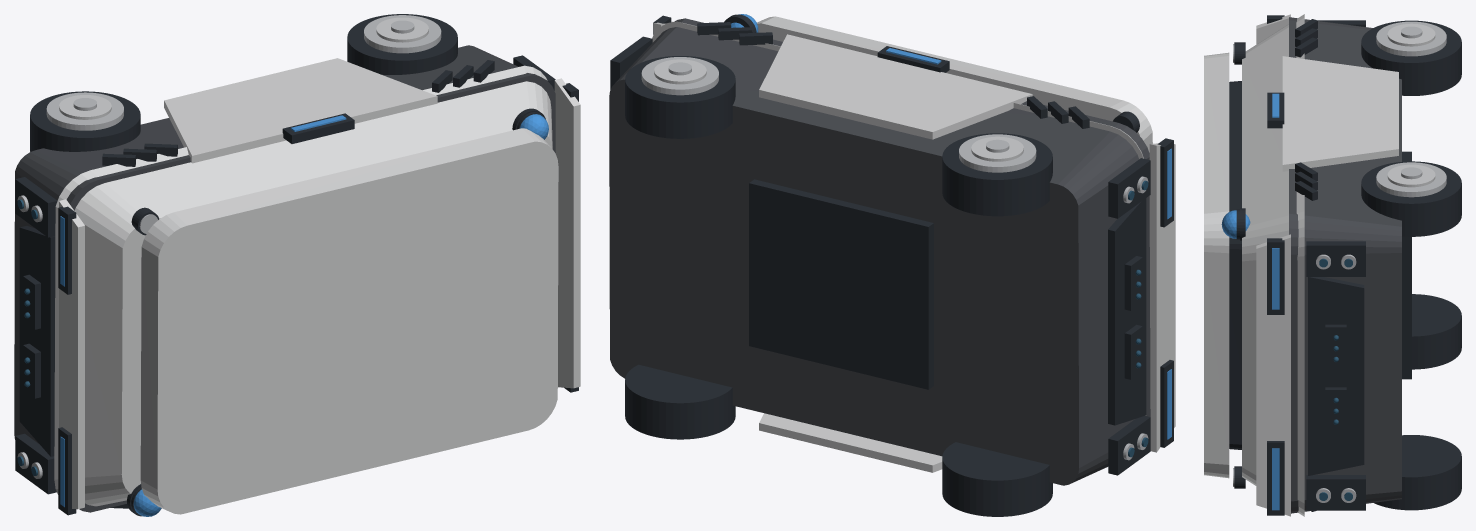
The model's file is umr_concept_v2.glb.
The picture shows the model from 3 angles, left to right: view 1: azimuth 30°, elevation 25°; view 2: azimuth 150°, elevation 25°; view 3: azimuth 270°, elevation 25°; orthographic projection. The views are drawn at different scales.
Parts seen in each view (by area): view 1: top_plate, upper, side_panel_left, lower, front_fascia, rear_recess, rear_fascia, wheel_3, wheel_1, pod_-0.416_0.205, hub_1, hub_3 (+8 smaller); view 2: lower, undertray, side_panel_left, wheel_4, wheel_2, rear_recess, top_plate, rear_fascia, wheel_3, wheel_1, side_panel_right, pod_-0.416_0.205 (+12 smaller); view 3: lower, upper, side_panel_left, top_plate, front_recess, front_fascia, riser, wheel_2, wheel_1, wheel_3, wheel_4, pod_0.416_0.205 (+15 smaller).
Boxes of the visible parts, x1=… form: top_plate: x1=140, y1=128, x2=558, y2=514; upper: x1=54, y1=65, x2=552, y2=506; side_panel_left: x1=164, y1=58, x2=437, y2=163; lower: x1=14, y1=45, x2=555, y2=512; front_fascia: x1=554, y1=78, x2=580, y2=388; rear_recess: x1=19, y1=226, x2=55, y2=456; rear_fascia: x1=59, y1=199, x2=84, y2=509; wheel_3: x1=30, y1=91, x2=140, y2=151; wheel_1: x1=347, y1=14, x2=457, y2=74; pod_-0.416_0.205: x1=15, y1=177, x2=57, y2=237; hub_1: x1=364, y1=15, x2=441, y2=53; hub_3: x1=46, y1=92, x2=123, y2=130; lower: x1=609, y1=18, x2=1150, y2=485; undertray: x1=749, y1=179, x2=933, y2=389; side_panel_left: x1=759, y1=34, x2=1032, y2=139; wheel_4: x1=942, y1=442, x2=1052, y2=516; wheel_2: x1=625, y1=364, x2=735, y2=439; rear_recess: x1=1108, y1=198, x2=1146, y2=425; top_plate: x1=757, y1=16, x2=1152, y2=152; rear_fascia: x1=1149, y1=143, x2=1175, y2=452; wheel_3: x1=942, y1=133, x2=1052, y2=216; wheel_1: x1=625, y1=56, x2=735, y2=138; side_panel_right: x1=759, y1=413, x2=942, y2=472; pod_-0.416_0.205: x1=1108, y1=158, x2=1150, y2=218; lower: x1=1289, y1=17, x2=1401, y2=513; upper: x1=1242, y1=14, x2=1304, y2=516; side_panel_left: x1=1282, y1=56, x2=1398, y2=171; top_plate: x1=1204, y1=52, x2=1229, y2=478; front_recess: x1=1308, y1=277, x2=1364, y2=475; front_fascia: x1=1256, y1=234, x2=1290, y2=516; riser: x1=1229, y1=81, x2=1241, y2=449; wheel_2: x1=1374, y1=435, x2=1461, y2=510; wheel_1: x1=1361, y1=161, x2=1461, y2=236; wheel_3: x1=1361, y1=20, x2=1461, y2=95; wheel_4: x1=1412, y1=294, x2=1461, y2=369; pod_0.416_0.205: x1=1306, y1=241, x2=1365, y2=276.
Size of the model in its own units: 0.871 by 0.576 by 0.41.
